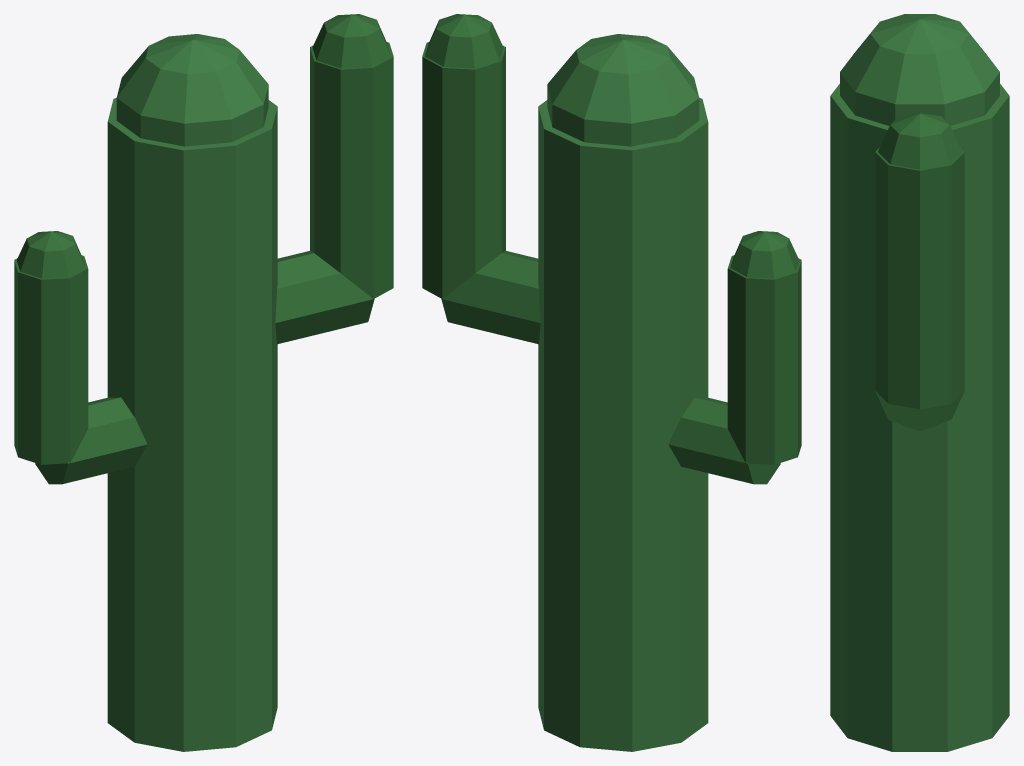
Rendered from cactus.glb.
3 renders of one model, left to right at view 1: azimuth 30°, elevation 25°; view 2: azimuth 150°, elevation 25°; view 3: azimuth 270°, elevation 25°, orthographic. The views are drawn at different scales.
Parts seen in each view (by area): view 1: Cactus; view 2: Cactus; view 3: Cactus.
Boxes of the visible parts, x1,y1,x2,y2 form: Cactus: (14,14,393,751); Cactus: (422,14,801,751); Cactus: (830,14,1009,751).
Bounding box in the file's own units: 0.168 × 0.292 × 0.068.
